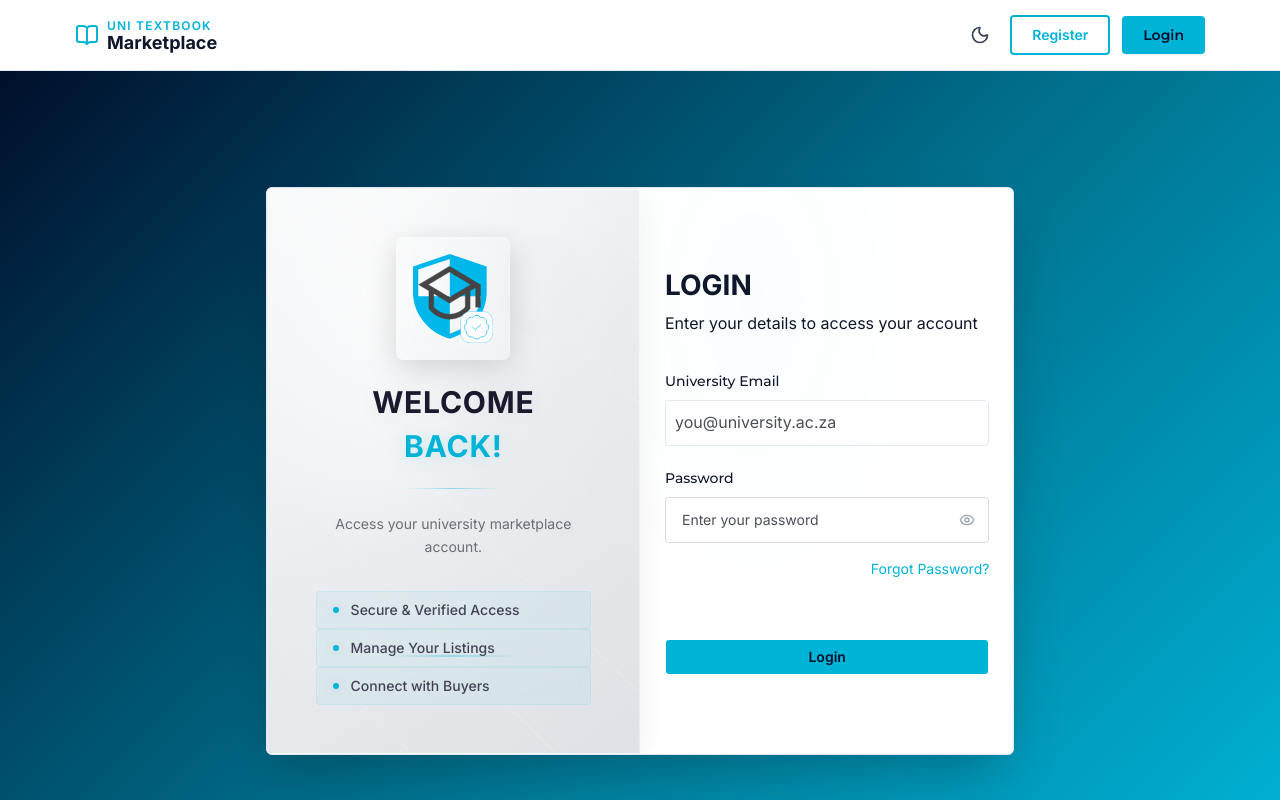
Test case: Login › shows a client-side validation error for an invalid email format
The image size is (1280, 800).
Step 1. Type "not-an-email" into the field with placeholder "you@university.ac.za" → {"x": 827, "y": 423}, box [665,400,989,446]
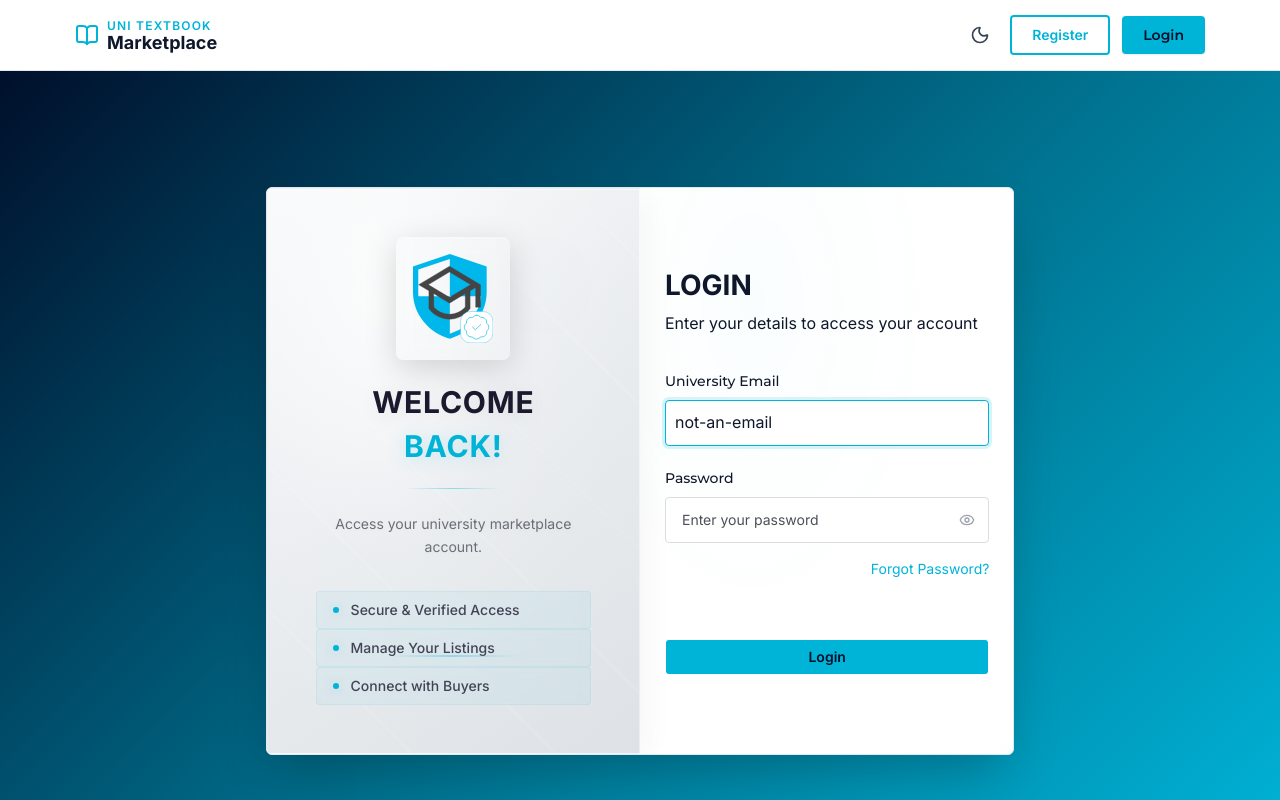
Step 2. Type "Password123" into the password field labelled "Password" → {"x": 827, "y": 520}, box [665,497,989,543]
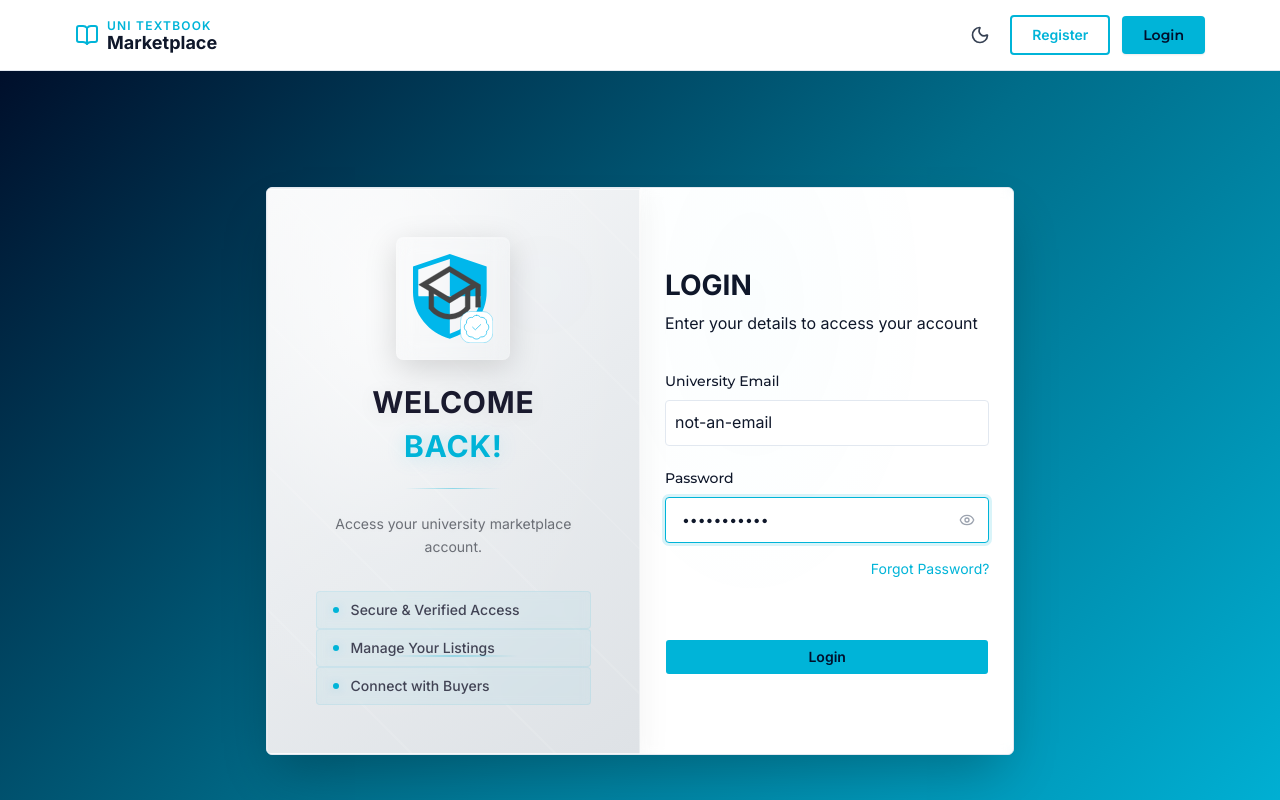
Step 3. Click the button "Login" → {"x": 827, "y": 657}, box [665,639,989,675]
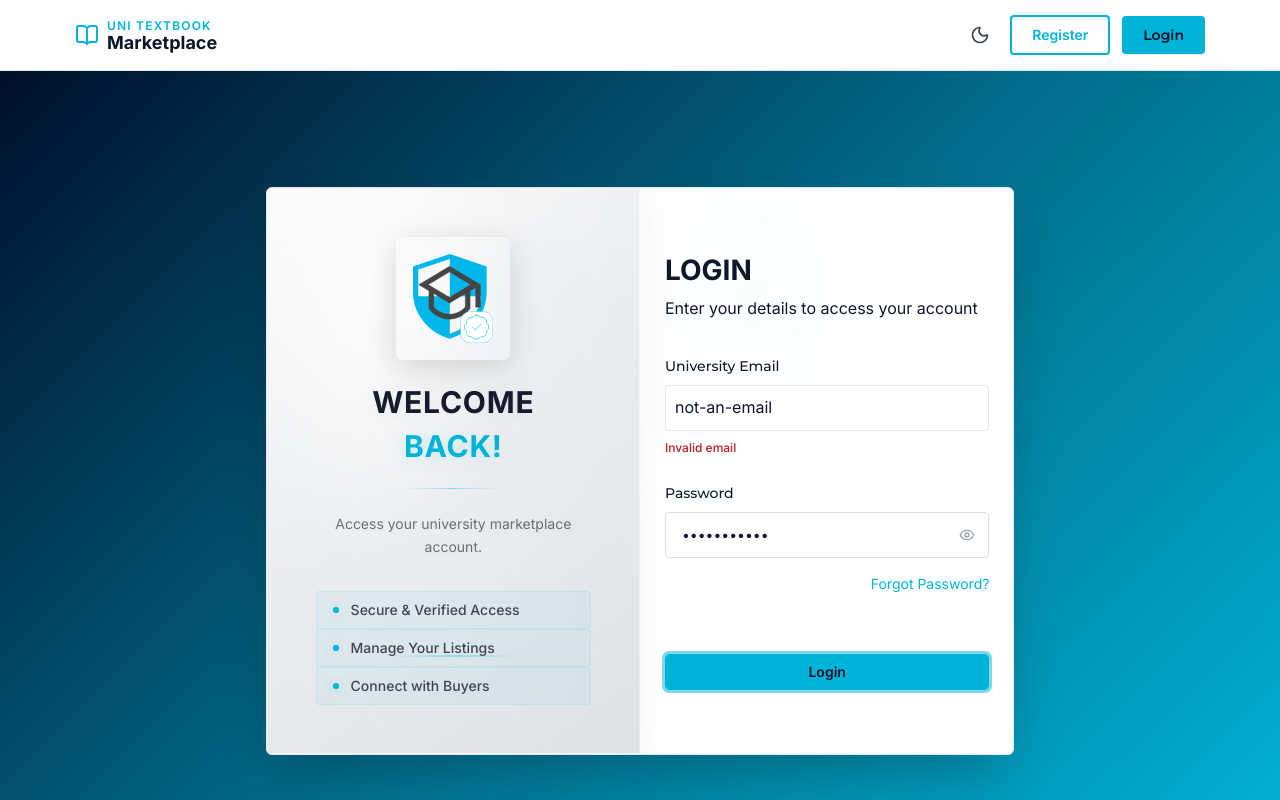
Expected: the text "Invalid email" is shown, [665,440,736,455]
